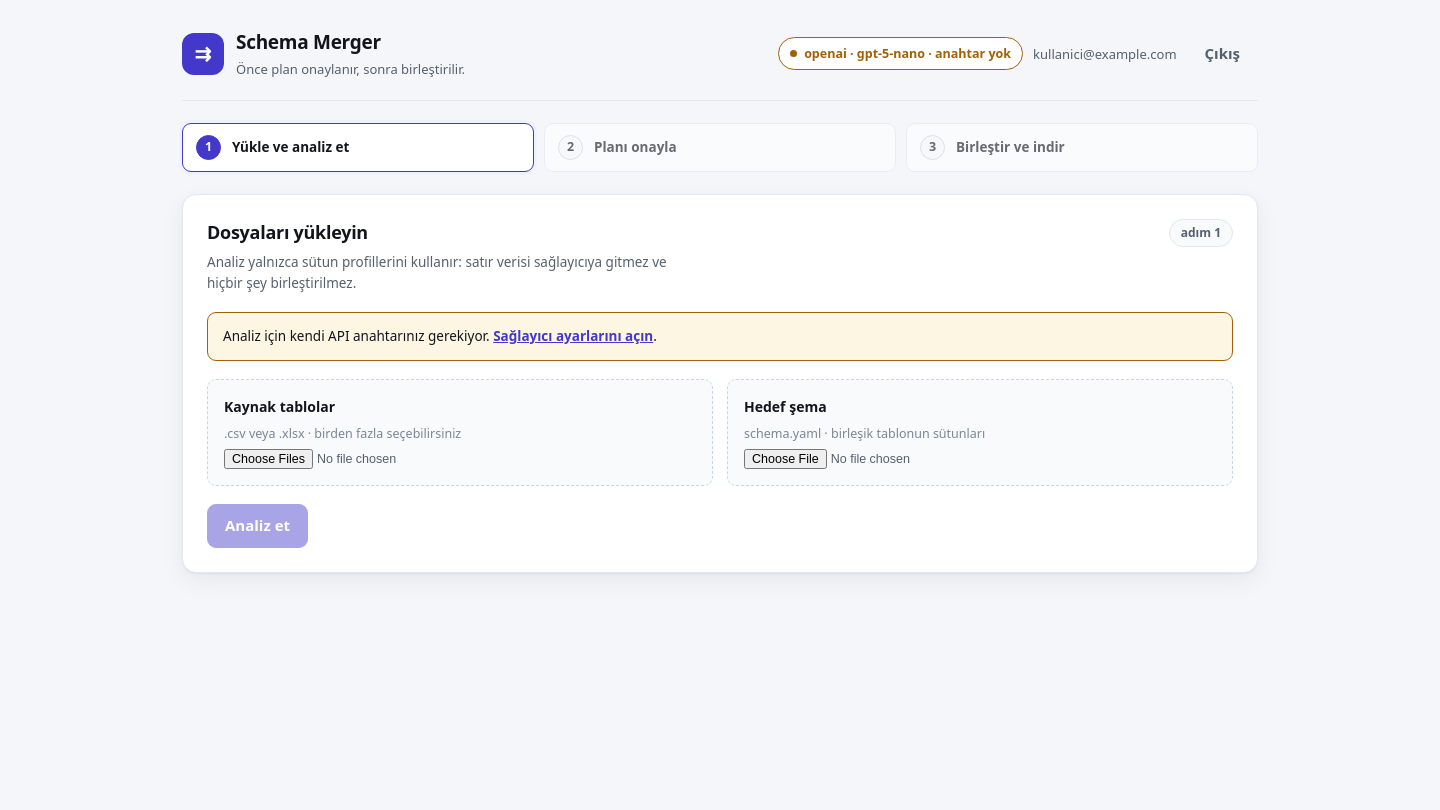
provider settings › sends the key to the server and never keeps it in the browser
The width and height of the screenshot is (1440, 810).
Expected: the heading "Dosyaları yükleyin" is shown, [207, 220, 368, 244]
Click the button "openai · gpt-5-nano · anahtar yok": (901, 54) [778, 37, 1023, 70]
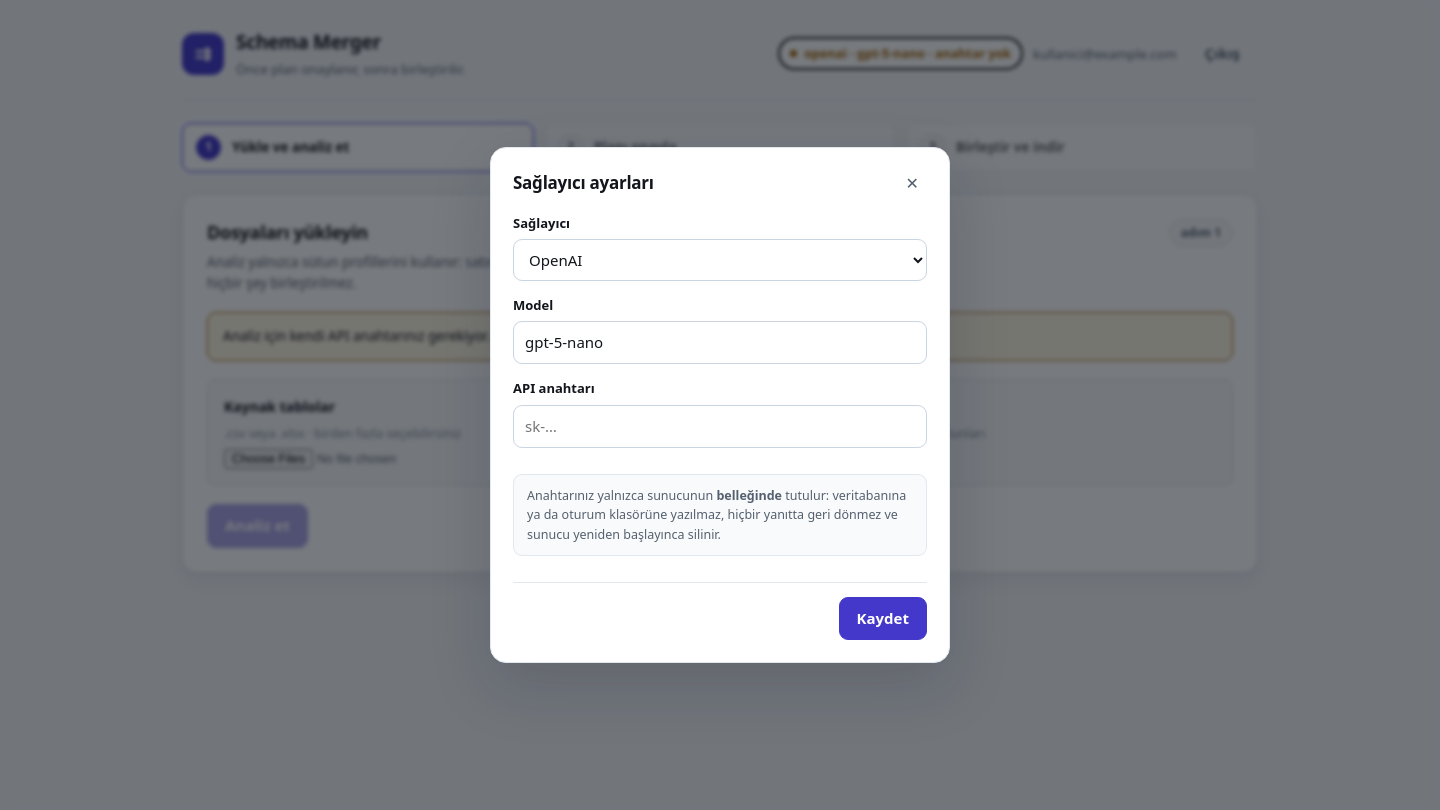
In the field labelled "Model": (720, 343) [513, 321, 927, 364], type "gpt-4o-mini"
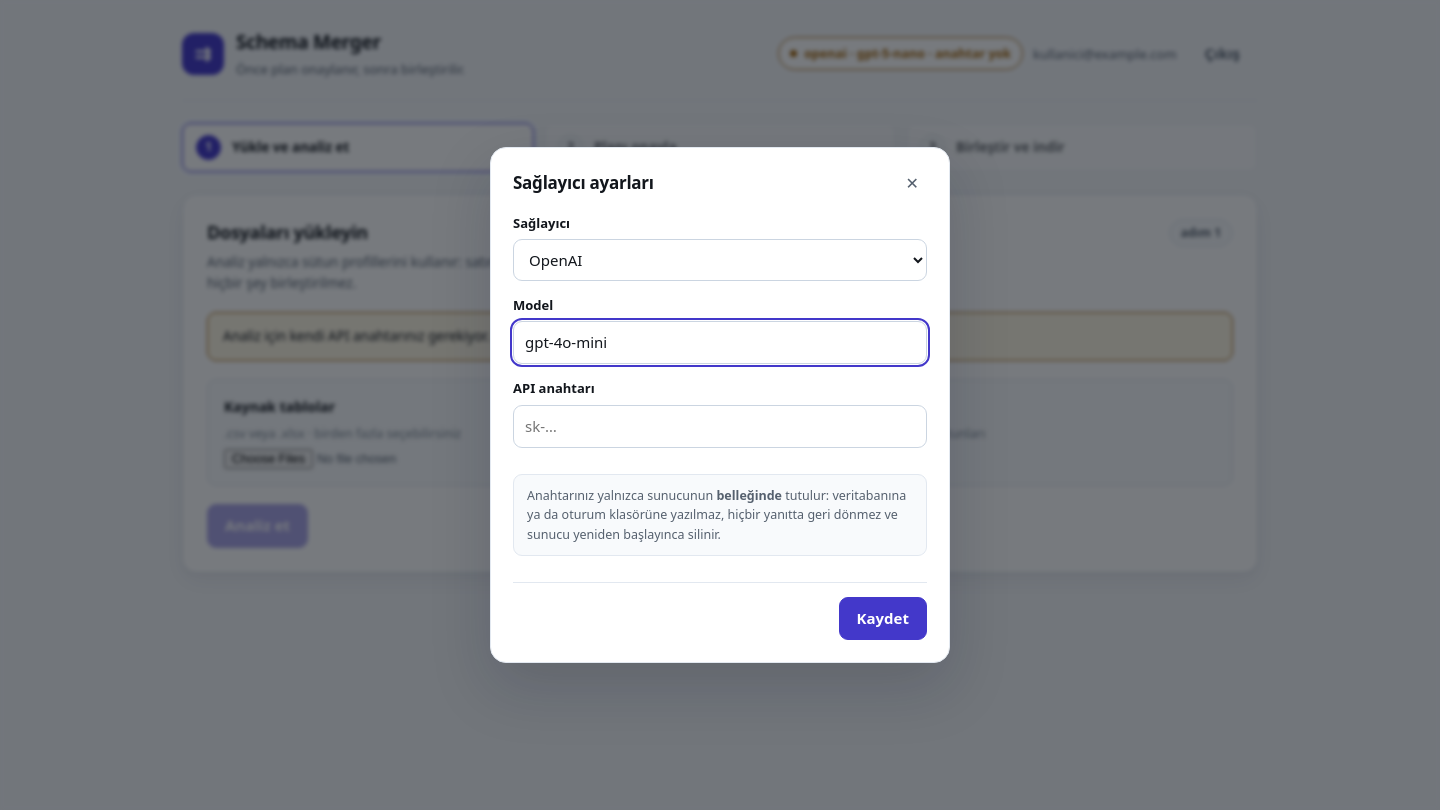
In the password field labelled "API anahtarı": (720, 426) [513, 404, 927, 448], type "sk-user-secret"
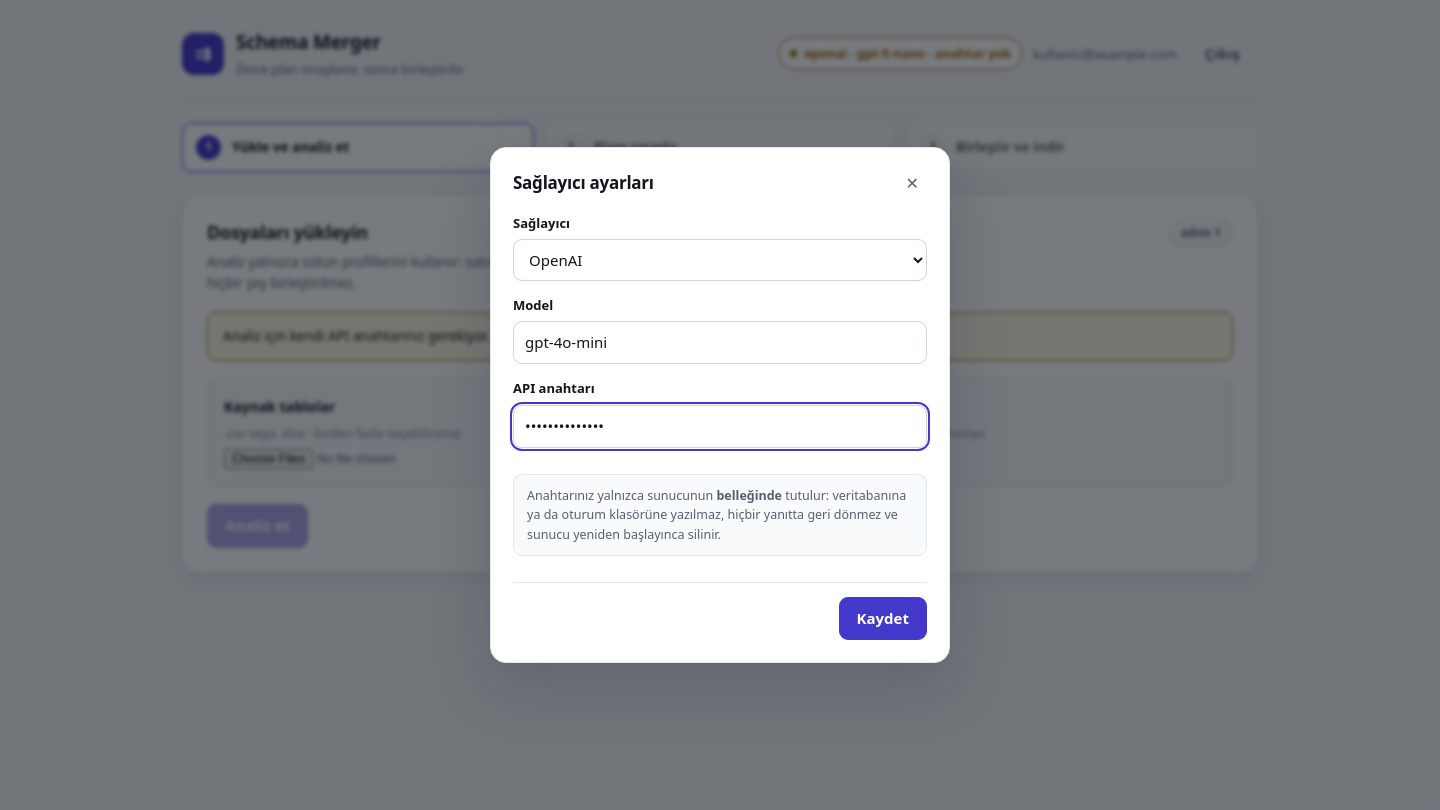
Click the button "Kaydet": (883, 619) [839, 597, 927, 640]
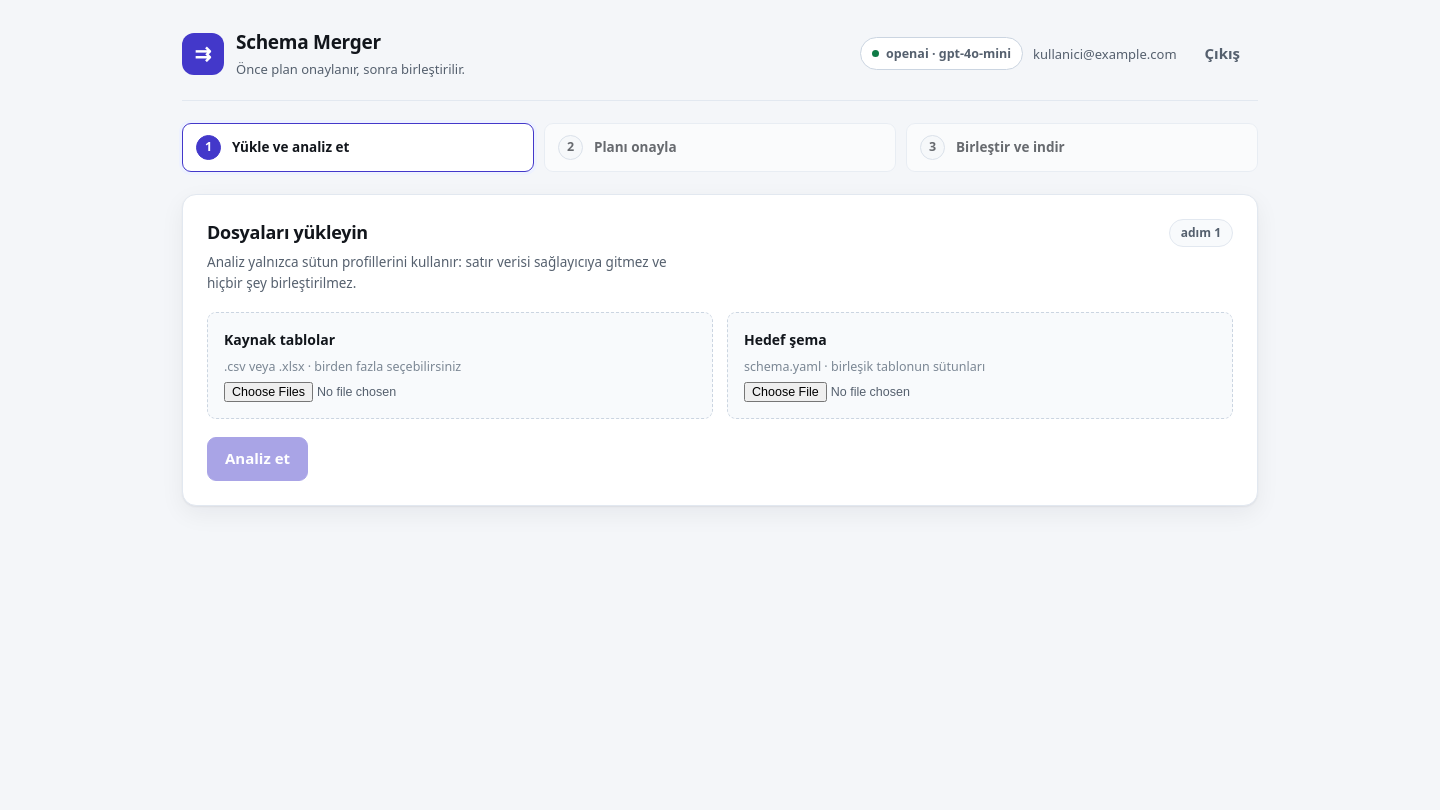
Now the text "kendi API anahtarınız gerekiyor" is gone
